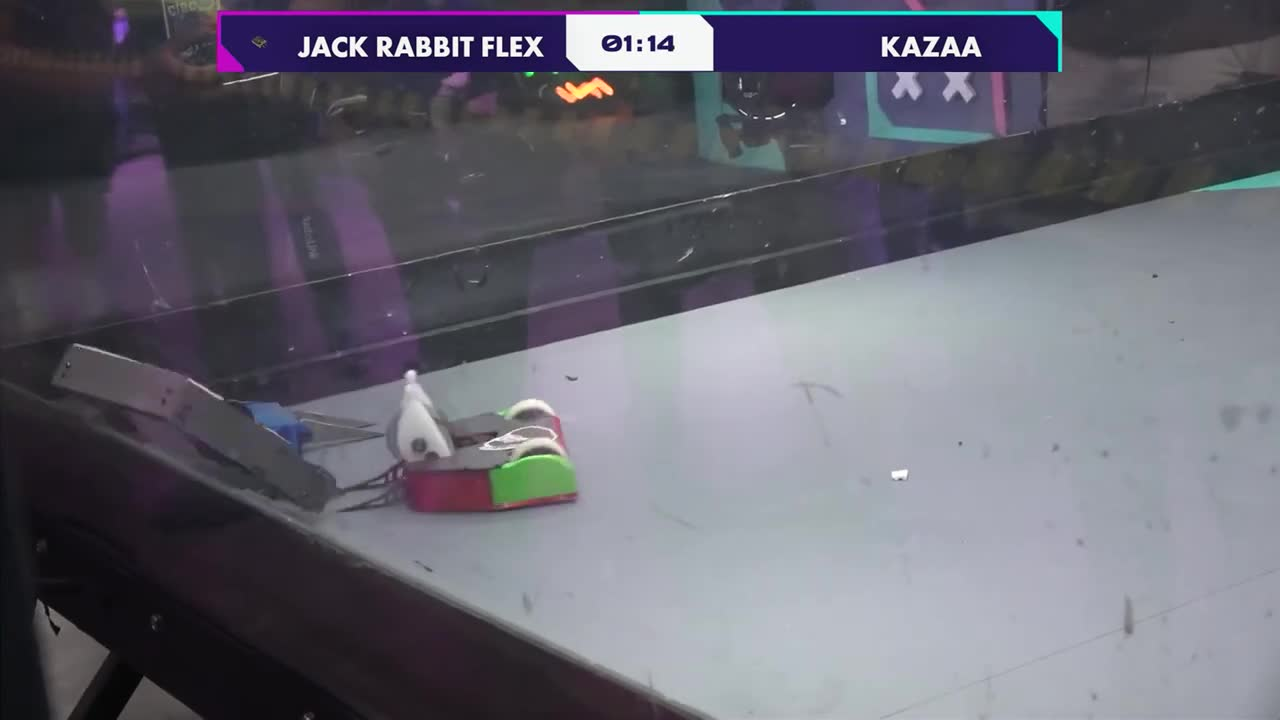combatbot: (50, 344, 338, 519), (383, 402, 581, 514), (438, 67, 624, 128)
minibot: (235, 396, 311, 447)
